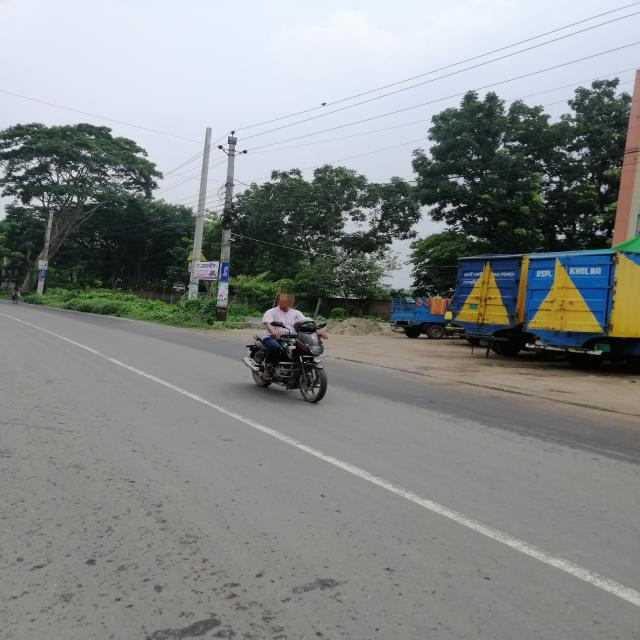Motorbike: (236, 321, 344, 416)
